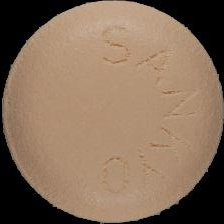65597-105: (0, 0, 224, 224)
